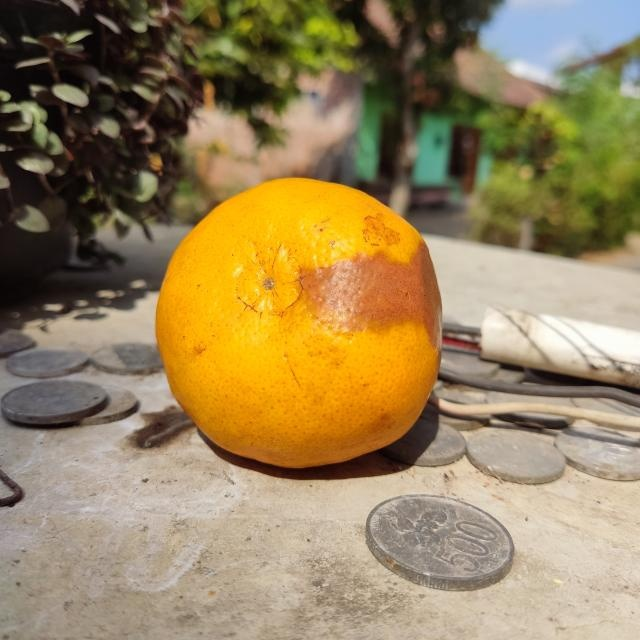agrume: (150, 176, 443, 469)
